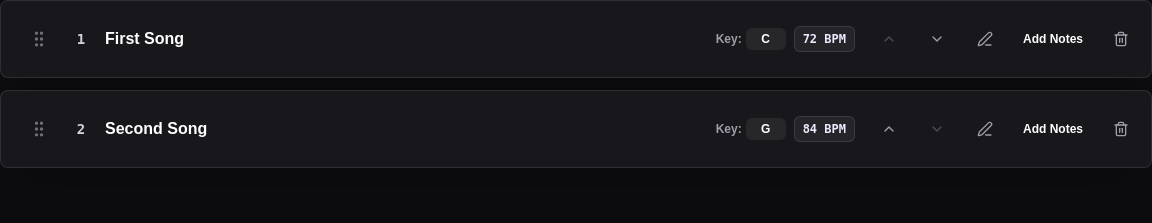
Scenario: SetlistSongOrder › restores the previous order and reports a failed save
The width and height of the screenshot is (1152, 223).
Click the button named "Move Second Song up": x=889, y=129 [867,107,911,151]
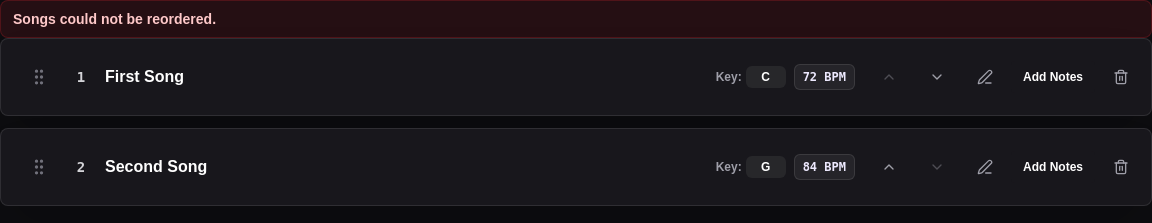
Expected: the button named "Move First Song up" is disabled, [867,55,911,99]
Result: the message reads "Songs could not be reordered." at [13,11,216,27]
